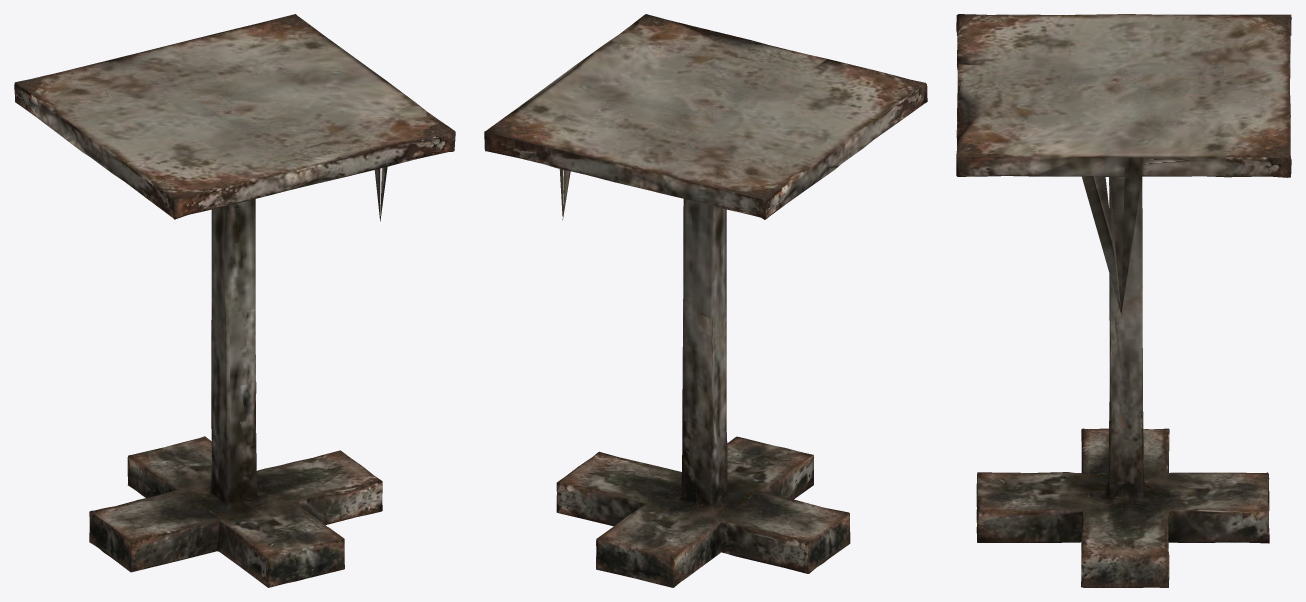
Rendered from pedestal.glb.
The picture shows the model from 3 angles, left to right: view 1: azimuth 30°, elevation 25°; view 2: azimuth 150°, elevation 25°; view 3: azimuth 270°, elevation 25°; orthographic projection. The views are drawn at different scales.
Size of the model in its own units: 0.7118 by 1 by 0.6953.
Materials: 1 (1 with a texture image).
